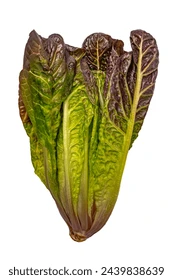lettuce: (11, 24, 146, 239)
